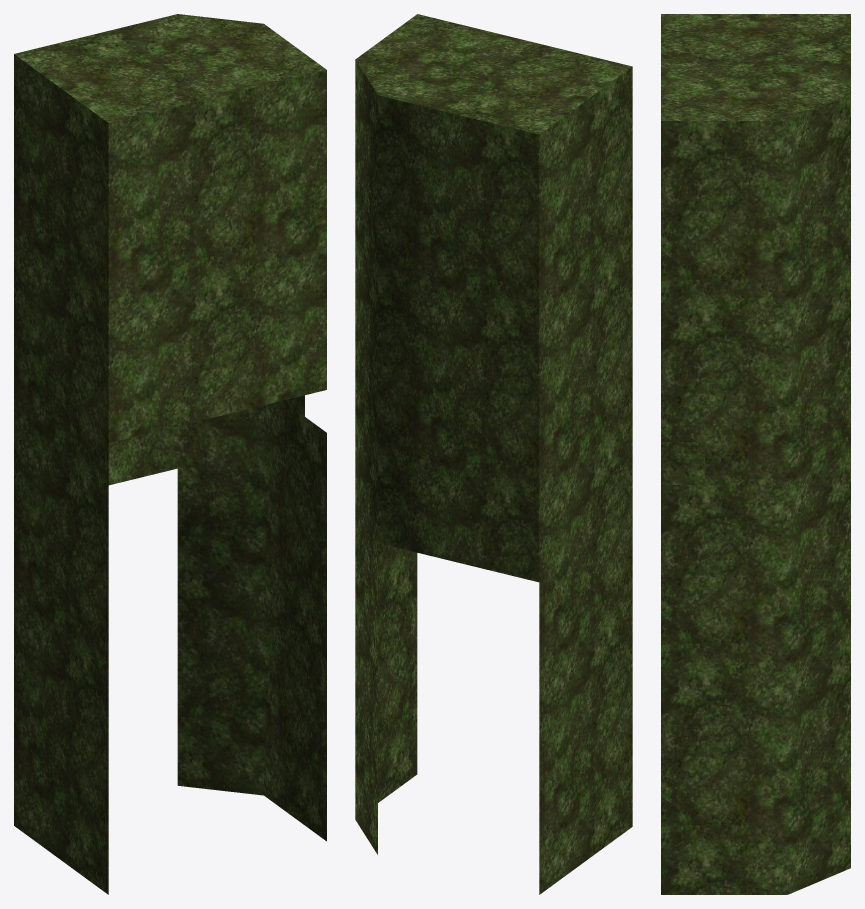
File: OVERHILL_A_01_LINE160.fbx
3 renders of one model, left to right at view 1: azimuth 30°, elevation 25°; view 2: azimuth 150°, elevation 25°; view 3: azimuth 270°, elevation 25°, orthographic.
Visible parts, largest first — view 1: OVERHILL_A_01_LINE160; view 2: OVERHILL_A_01_LINE160; view 3: OVERHILL_A_01_LINE160.
Part boxes in pixels (x1,y1,x2,y2): OVERHILL_A_01_LINE160: (14, 14, 326, 894); OVERHILL_A_01_LINE160: (355, 14, 632, 894); OVERHILL_A_01_LINE160: (661, 14, 850, 894).
Size of the model in its own units: 40000 by 135072 by 30000.
1 material, 1 textured.
